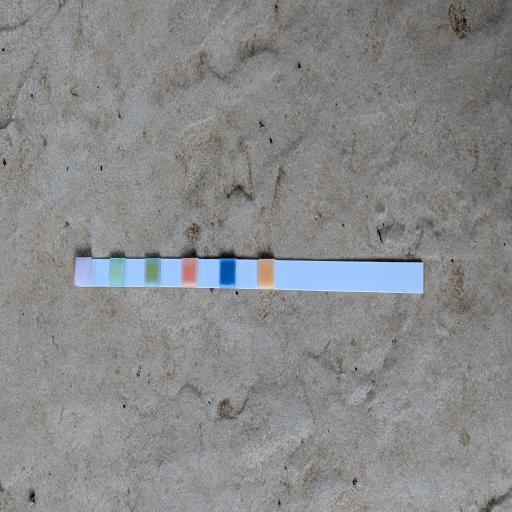strip: (76, 257, 425, 294)
